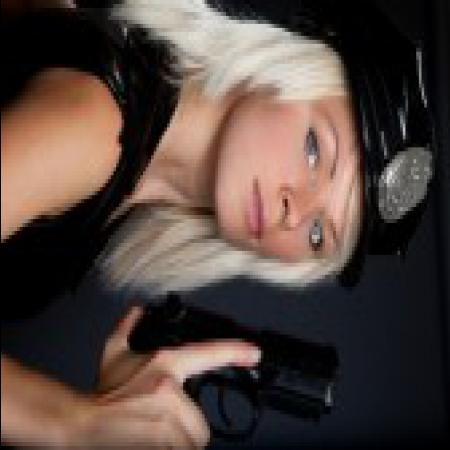Pistol: (126, 282, 343, 434)
